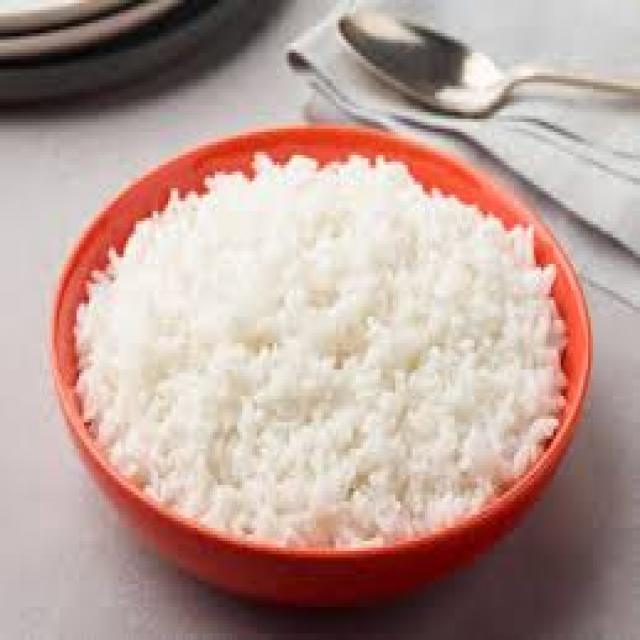White Rice: (49, 124, 594, 588)
